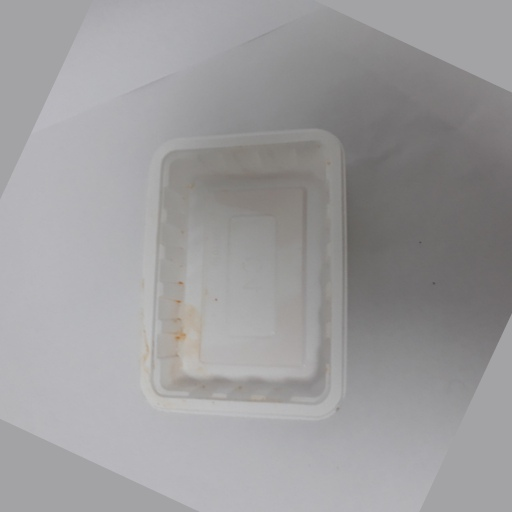Plastic_4: (134, 129, 349, 419)
